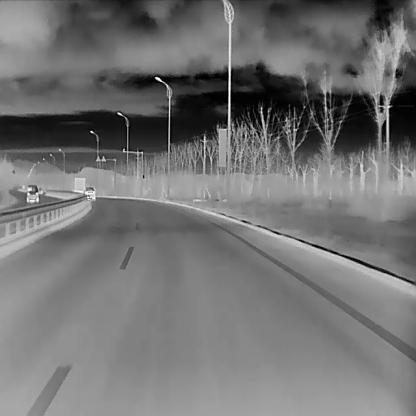car: (26, 184, 39, 202), (72, 177, 85, 194), (82, 186, 95, 200)
